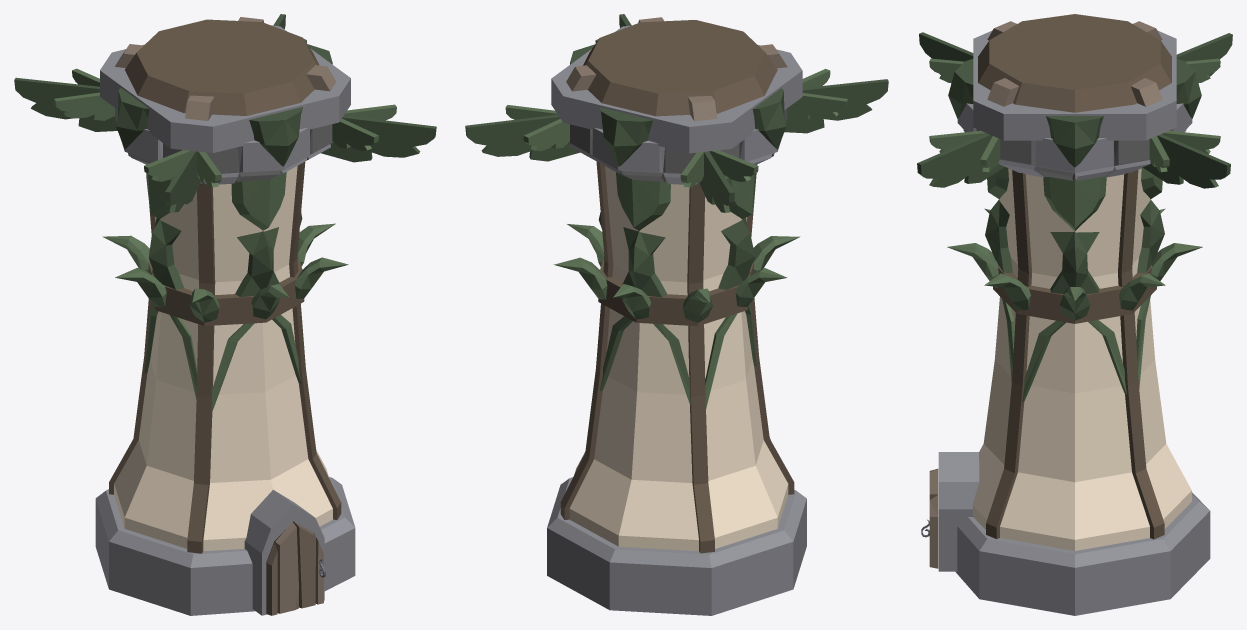
The model's file is Ballista_tower_LVL_3_Body.fbx.
3 views of the same model, side by side, from view 1: azimuth 30°, elevation 25°; view 2: azimuth 150°, elevation 25°; view 3: azimuth 270°, elevation 25° (orthographic).
Visible parts, largest first — view 1: Ballista_tower_LVL_3; view 2: Ballista_tower_LVL_3; view 3: Ballista_tower_LVL_3.
Boxes of the visible parts, box(x1,y1,x2,y2) form: Ballista_tower_LVL_3: box(14, 14, 436, 615); Ballista_tower_LVL_3: box(465, 14, 888, 615); Ballista_tower_LVL_3: box(917, 14, 1232, 615).
Bounding box in the file's own units: 662 × 1172 × 662.
